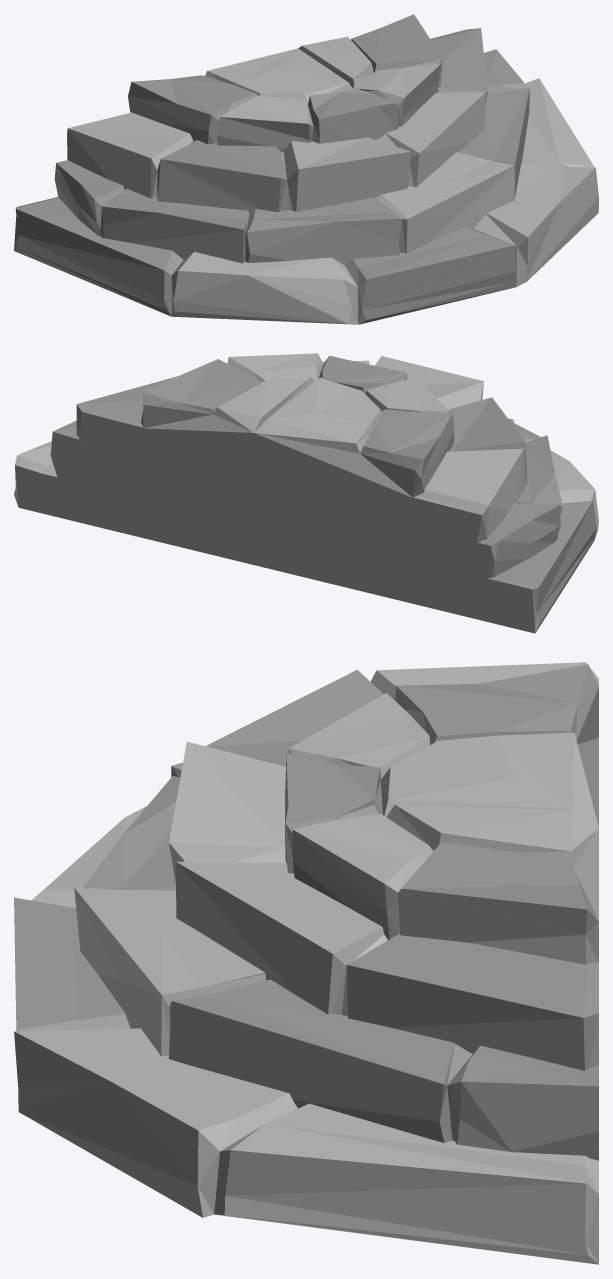
Rendered from _STAIRS_05_1.fbx.
The picture shows the model from 3 angles, top to bottom: view 1: azimuth 30°, elevation 25°; view 2: azimuth 150°, elevation 25°; view 3: azimuth 270°, elevation 25°; orthographic projection. The views are drawn at different scales.
Parts seen in each view (by area): view 1: STAIRS_05_1; view 2: STAIRS_05_1; view 3: STAIRS_05_1.
Boxes of the visible parts, bbox=[...] form: STAIRS_05_1: bbox=[14, 14, 598, 324]; STAIRS_05_1: bbox=[14, 353, 598, 633]; STAIRS_05_1: bbox=[14, 662, 598, 1264].
Size of the model in its own units: 200 by 53.2 by 109.
